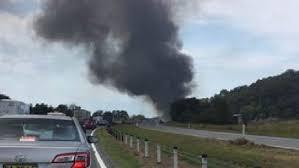smoke: (24, 0, 215, 125)
